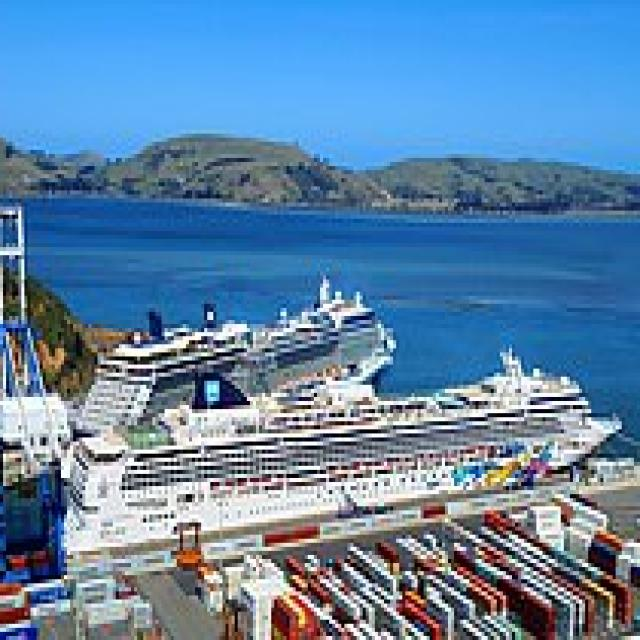Cruise: (61, 336, 631, 559), (73, 264, 402, 438)
